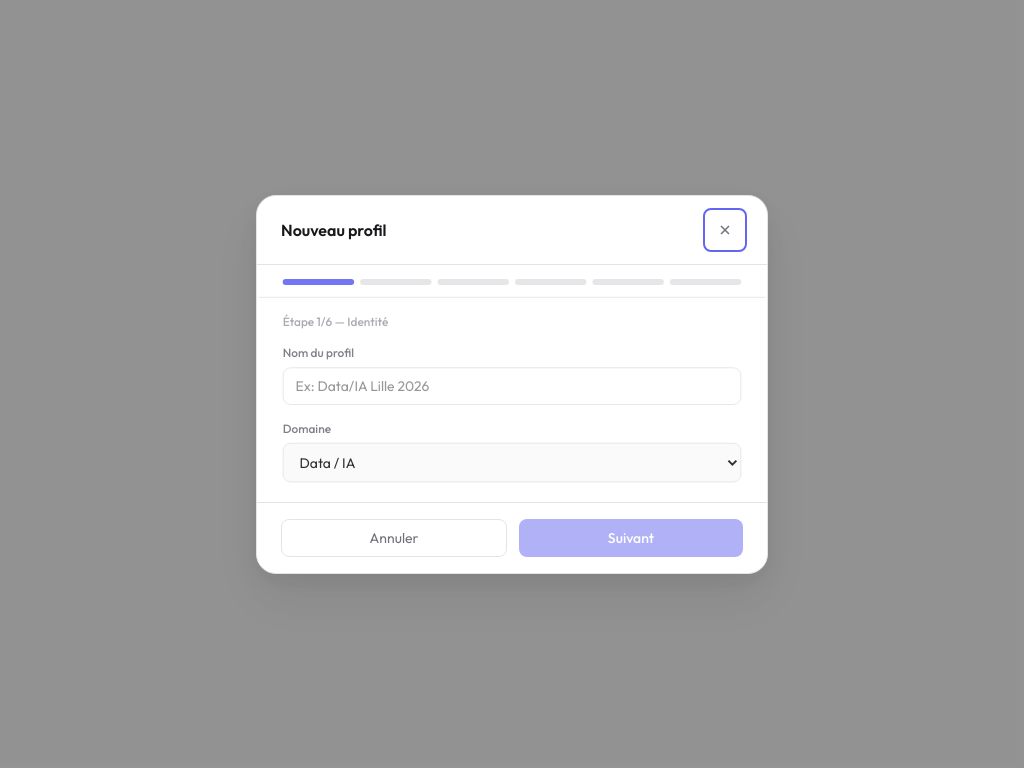
Test: WizardModal › advances to step 2 (villes) after clicking "Suivant"
The image size is (1024, 768).
Type "Mon profil" into the field with placeholder "Ex: Data/IA Lille 2026".
click(512, 386); type("Mon profil")  # box [283,367,741,404]
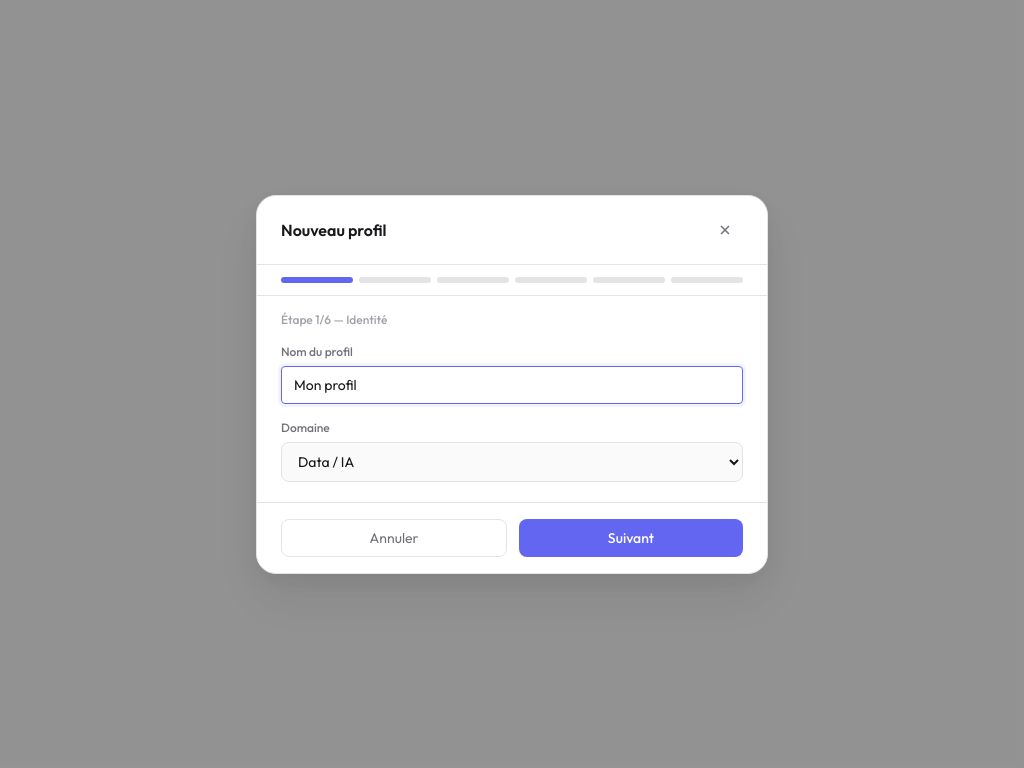
Click the button "Suivant".
click(631, 538)  # box [519,518,743,556]
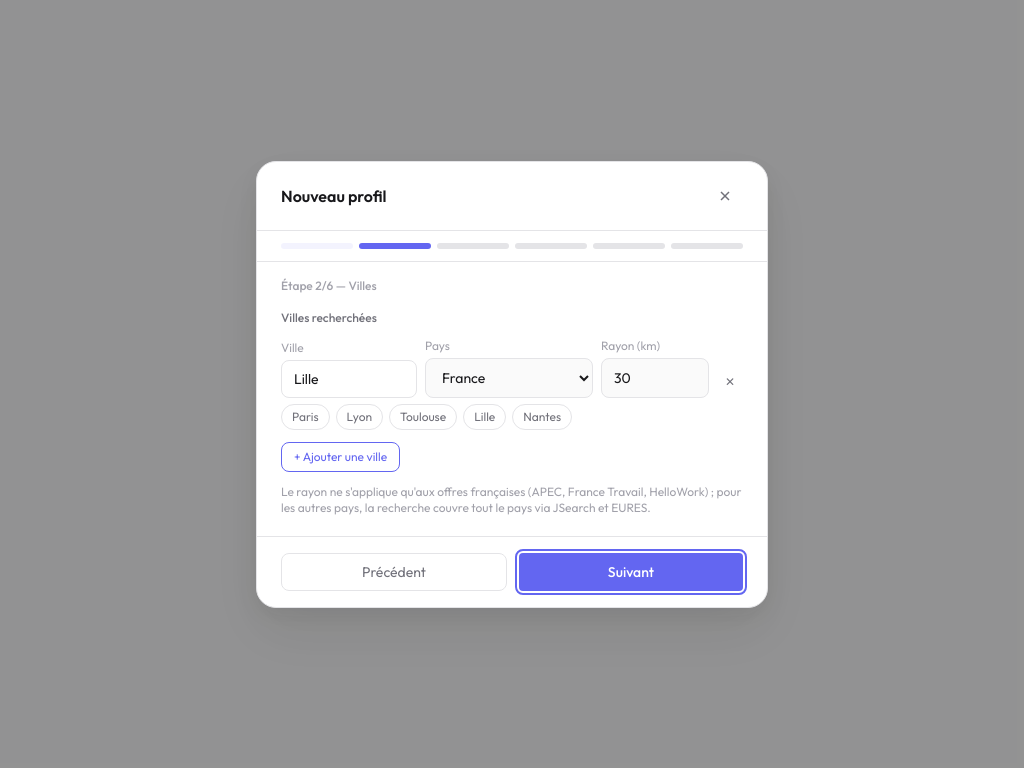
Now the text "Villes recherchées" is shown, box [281,310,377,324]
